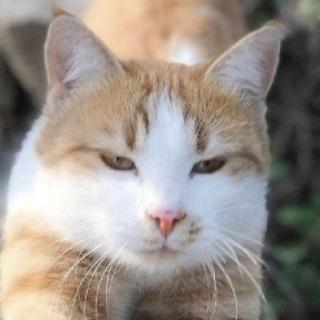cat: (29, 14, 296, 284)
nose: (139, 176, 195, 242)
